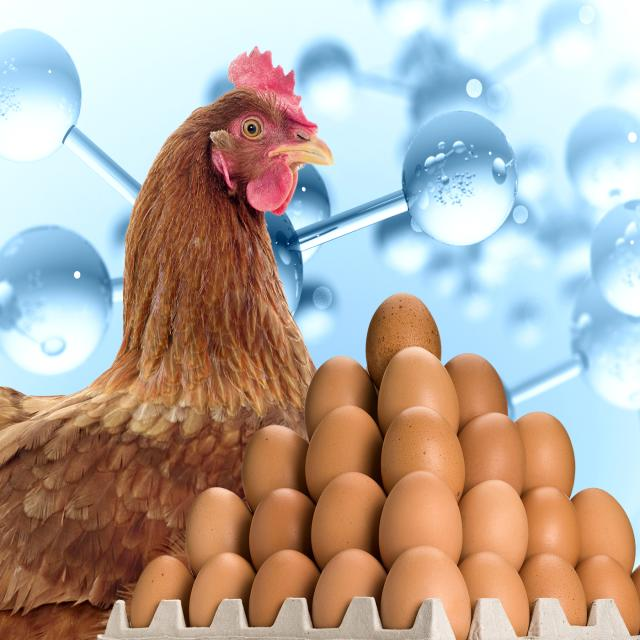huevos: (313, 359, 582, 591)
